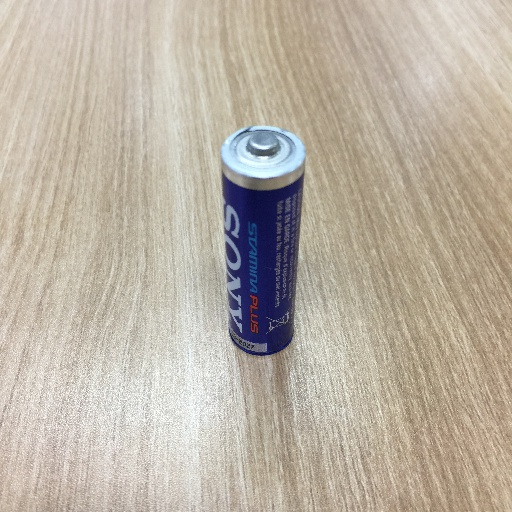Battery_0: (208, 118, 314, 365)
